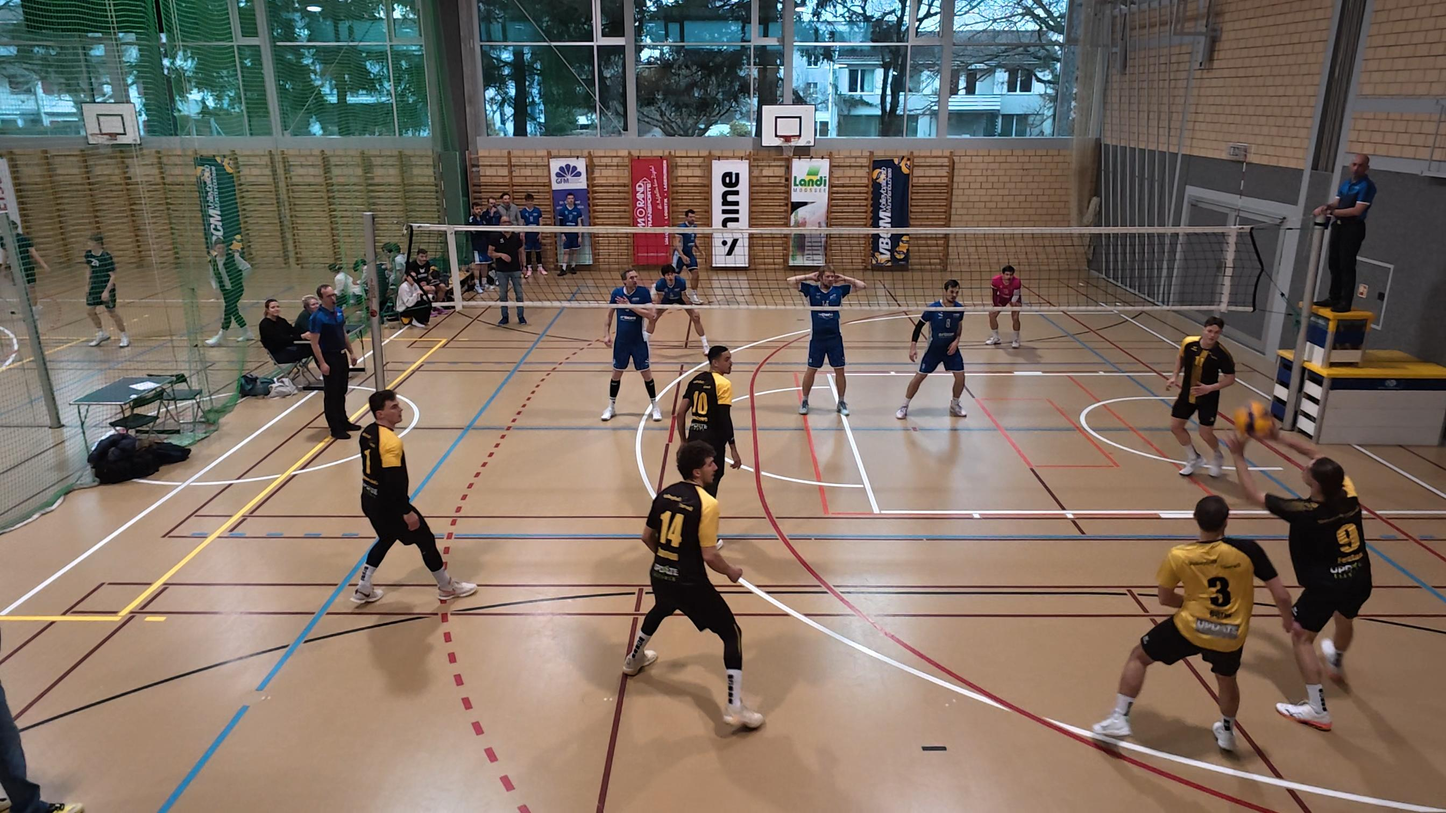ricezione: (1224, 423, 1379, 731)
